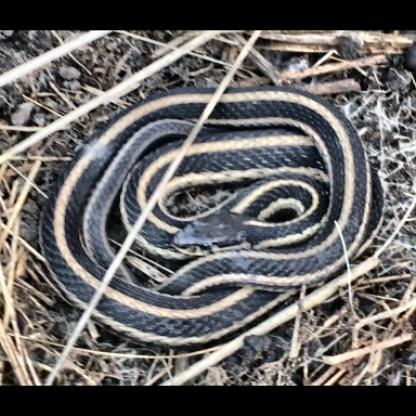Snake: (36, 76, 384, 345)
